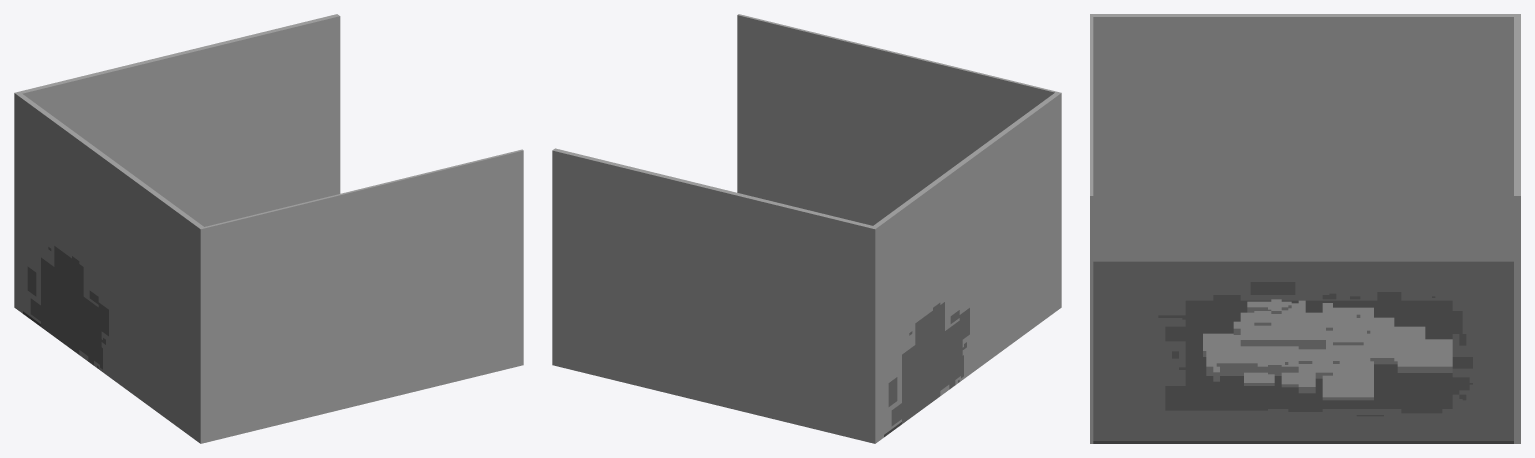
The model's file is 4x2 third (des)-0.obj.
3 views of the same model, side by side, from view 1: azimuth 30°, elevation 25°; view 2: azimuth 150°, elevation 25°; view 3: azimuth 270°, elevation 25° (orthographic). The views are drawn at different scales.
Visible parts, largest first — view 1: 4x2 third (des)-0; view 2: 4x2 third (des)-0; view 3: 4x2 third (des)-0.
Part boxes in pixels (box(x1,y1,x2,y2)): 4x2 third (des)-0: box(14, 14, 523, 443); 4x2 third (des)-0: box(552, 14, 1061, 443); 4x2 third (des)-0: box(1090, 14, 1520, 443).
Size of the model in its own units: 126 by 80 by 126.
Materials: 1 (1 with a texture image).
